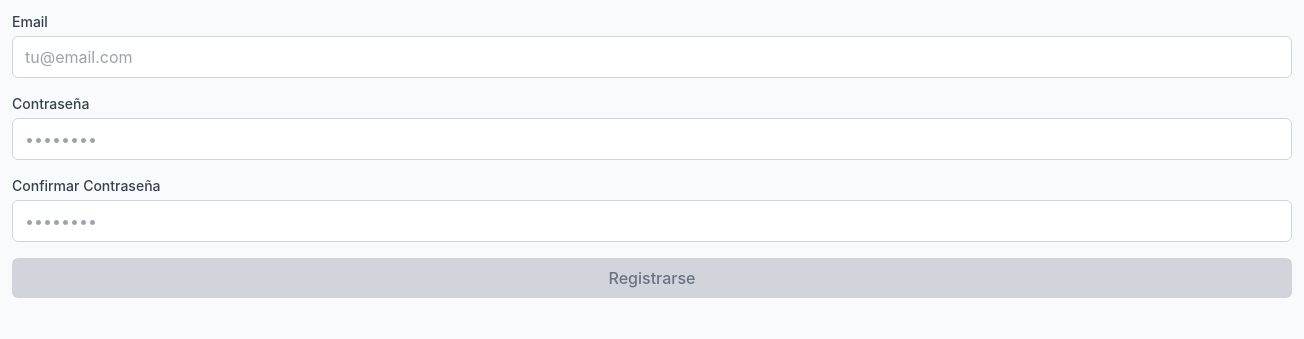
Test: RegisterForm › should show error for invalid email format
Step 1. Type "invalid-email" into the field labelled "Email" → (652, 57), box [12,36,1292,78]
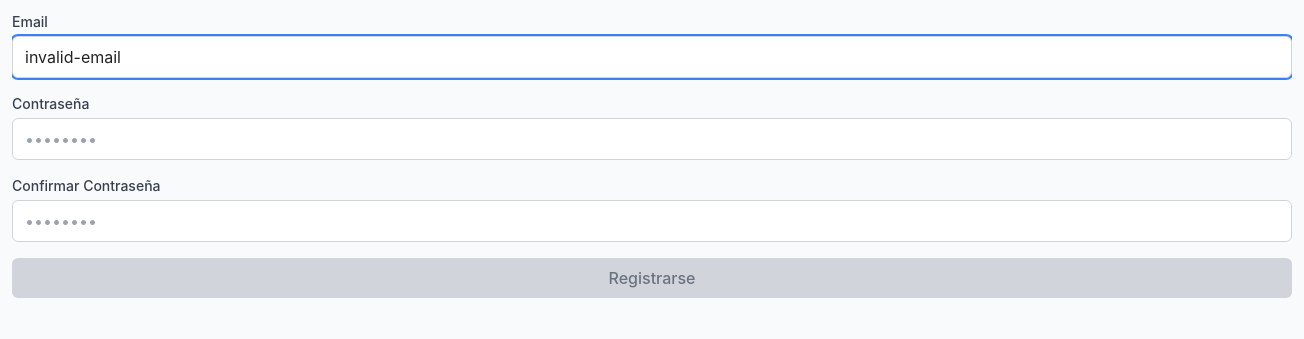
Step 2. Press Tab
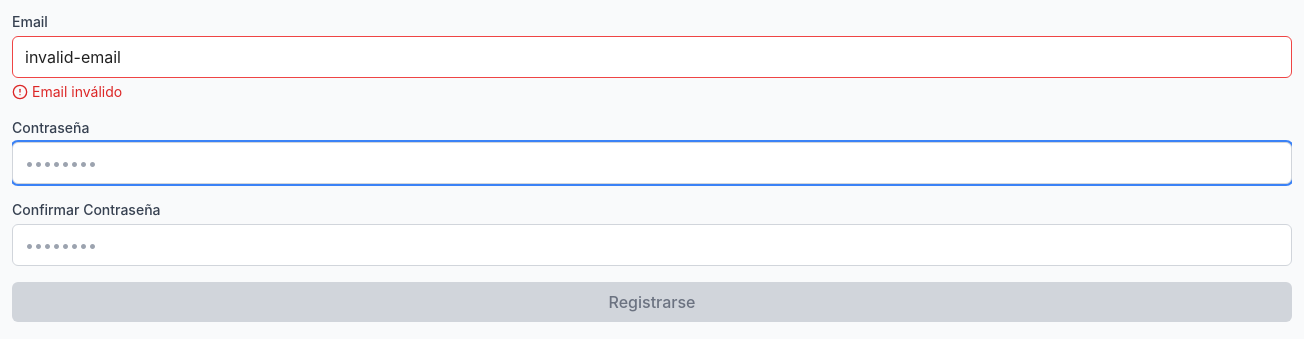
expect the text "Email inválido" is shown: met, box [12,83,122,100]
